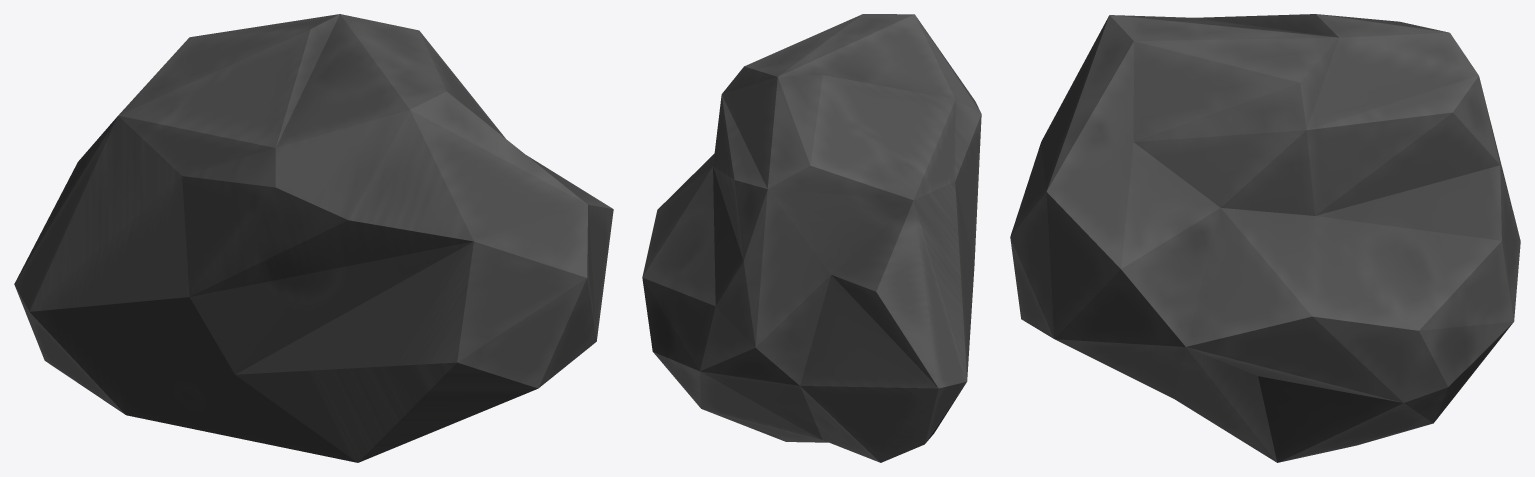
The model's file is rock_7.obj.
3 renders of one model, left to right at view 1: azimuth 30°, elevation 25°; view 2: azimuth 150°, elevation 25°; view 3: azimuth 270°, elevation 25°, orthographic. The views are drawn at different scales.
Parts seen in each view (by area): view 1: Asteroids_Mesh.007; view 2: Asteroids_Mesh.007; view 3: Asteroids_Mesh.007.
Boxes of the visible parts, <box> form: Asteroids_Mesh.007: <box>14,14,613,462</box>; Asteroids_Mesh.007: <box>642,14,981,462</box>; Asteroids_Mesh.007: <box>1010,14,1520,462</box>.
Size of the model in its own units: 1.08 by 1.01 by 1.11.
